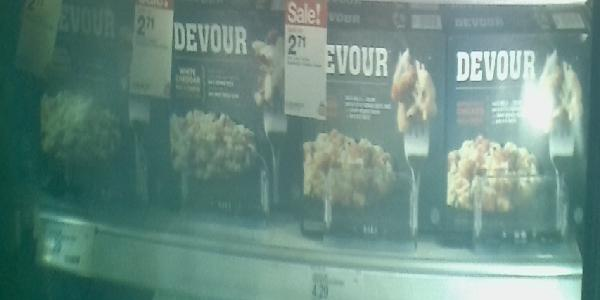pizza1: (297, 27, 443, 245), (447, 33, 589, 245), (157, 12, 292, 222), (21, 1, 151, 213)
